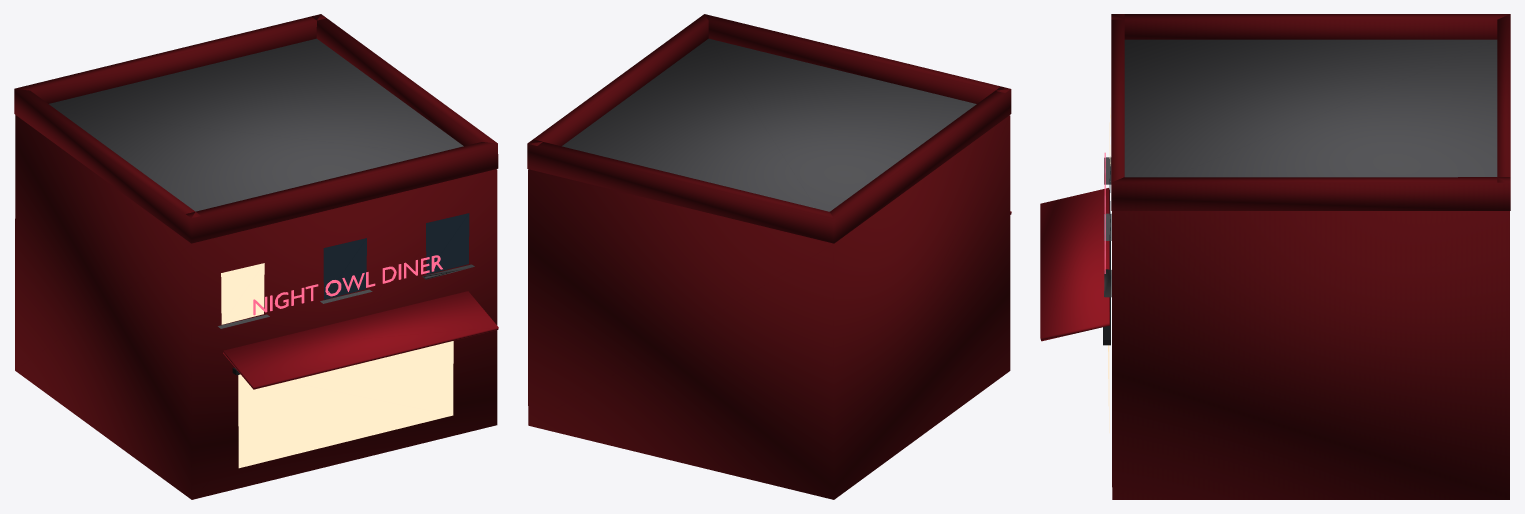
File: kit_shopfront_lod1.glb
3 views of the same model, side by side, from view 1: azimuth 30°, elevation 25°; view 2: azimuth 150°, elevation 25°; view 3: azimuth 270°, elevation 25° (orthographic). The views are drawn at different scales.
Parts seen in each view (by area): view 1: shopfront_LOD1; view 2: shopfront_LOD1; view 3: shopfront_LOD1.
Boxes of the visible parts, <box> form: shopfront_LOD1: <box>14,14,498,499</box>; shopfront_LOD1: <box>527,14,1011,499</box>; shopfront_LOD1: <box>1040,14,1510,499</box>.
Bounding box in the file's own units: 9.99 × 8.77 × 11.77.
Materials: 7 (7 with a texture image).
